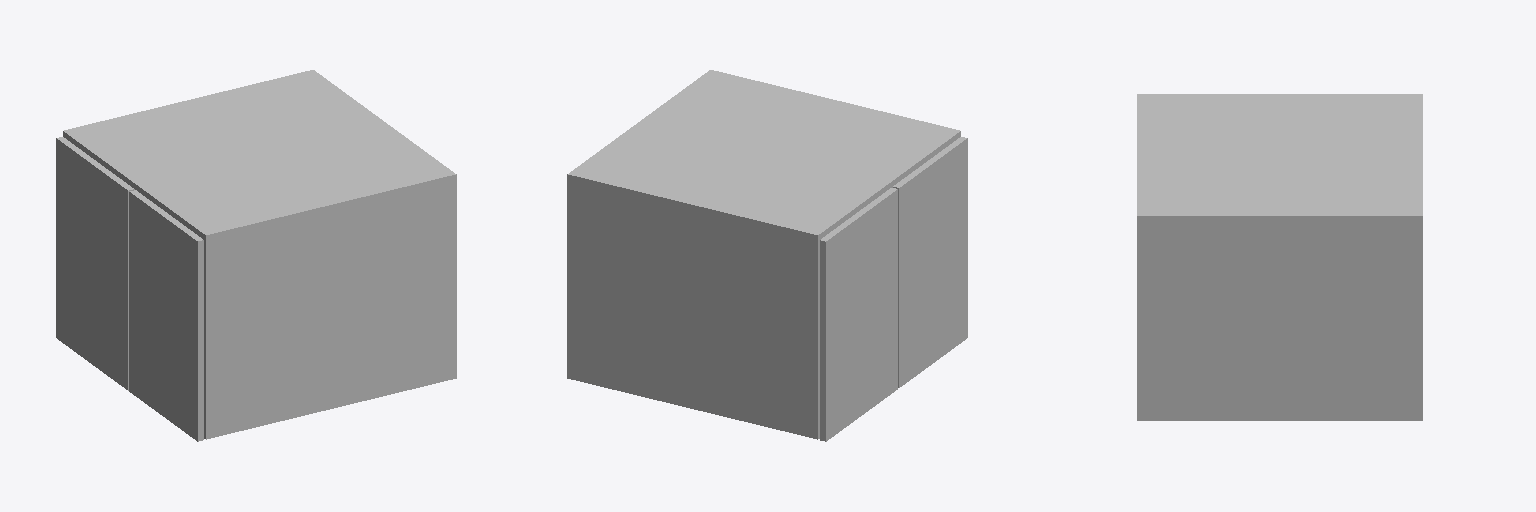
File: cupboard 2.obj
The picture shows the model from 3 angles: view 1: azimuth 30°, elevation 25°; view 2: azimuth 150°, elevation 25°; view 3: azimuth 270°, elevation 25°; orthographic projection.
Size of the model in its own units: 45.4 by 34.52 by 43.63.